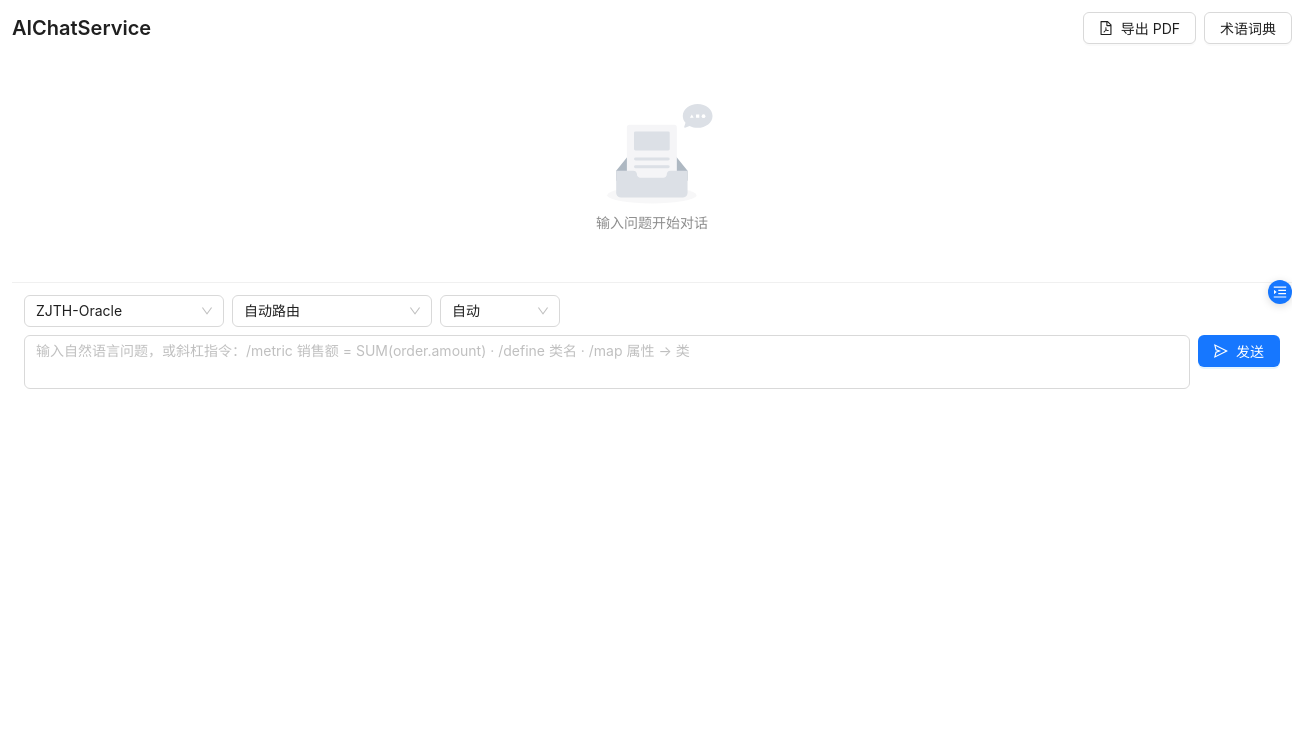
Test: ChatPage › 斜杠指令 /metric 直接发送由后端解析为 metric 意图
This screenshot has width=1304, height=732.
Type "/metric 销售额 = SUM(order.amount)" into the text box with placeholder "输入自然语言问题". click: coordinates (607, 362)
box: 24,335 -> 1190,389
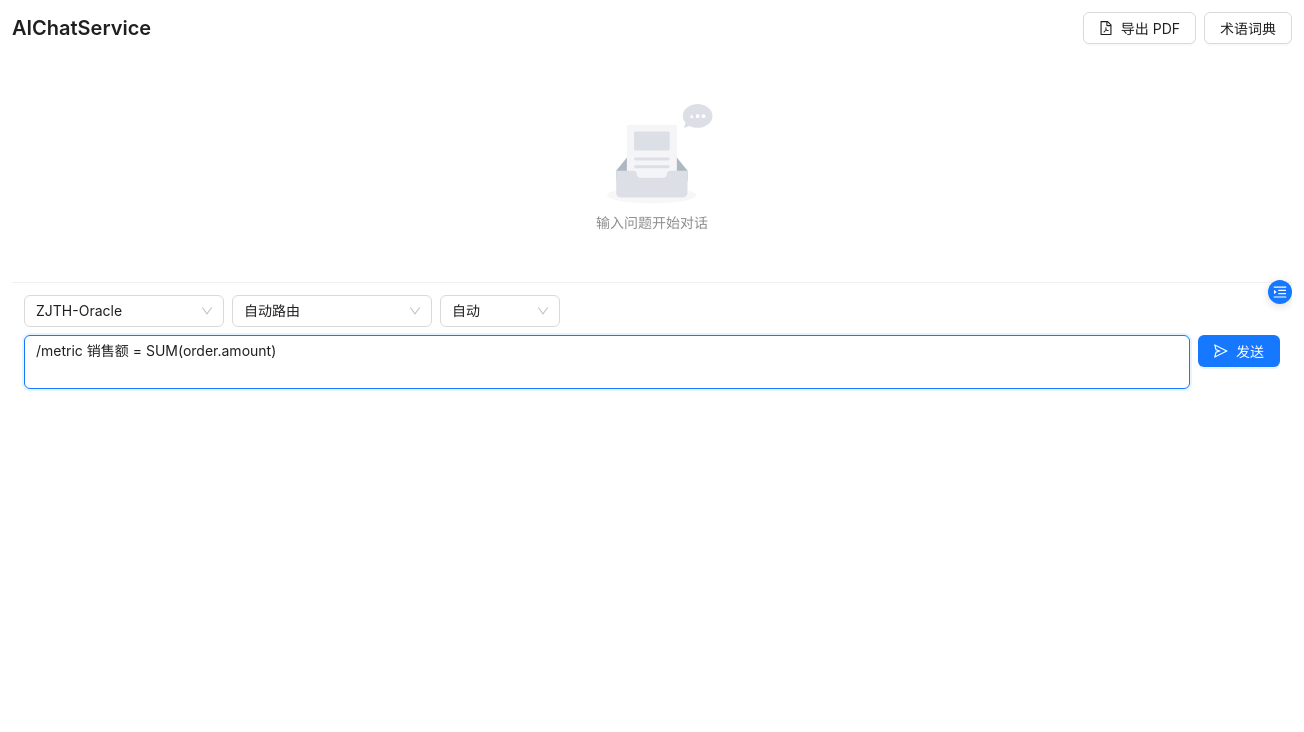
Click the button "发送". click: coordinates (1239, 351)
box: 1198,335 -> 1280,367
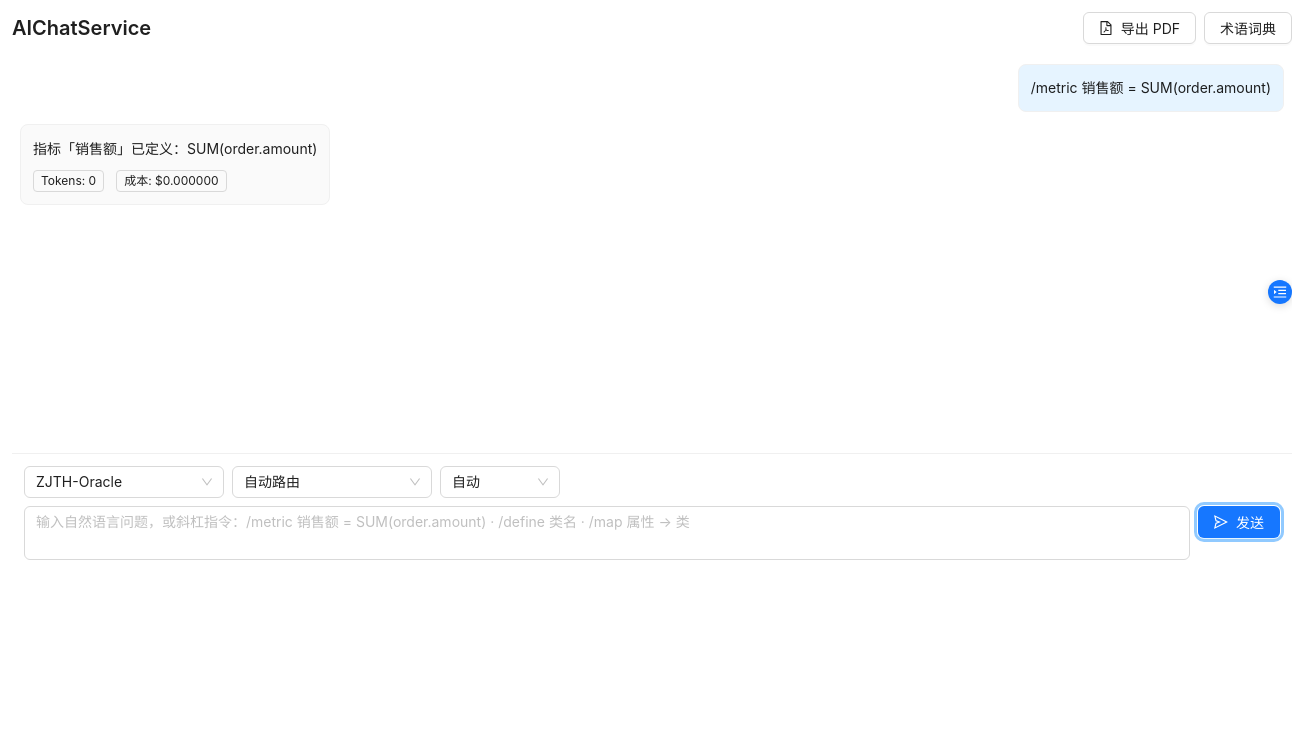
Now the text "/metric 销售额 = SUM(order.amount)" is shown, box 1031,77 -> 1271,99
Now the text "指标「销售额」已定义：SUM(order.amount)" is shown, box 33,137 -> 317,161
Now the text "Tokens: 0" is shown, box 33,170 -> 104,192
